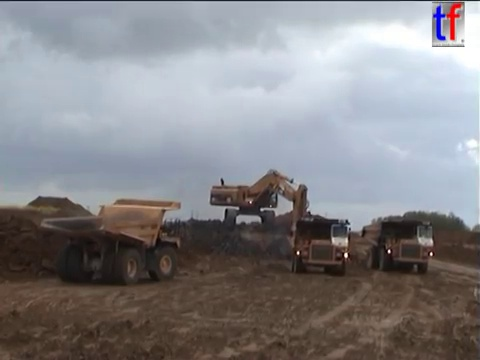excavator: (207, 167, 316, 254), (260, 205, 314, 236)
truck: (39, 197, 183, 286), (360, 219, 434, 274), (287, 216, 351, 276)
